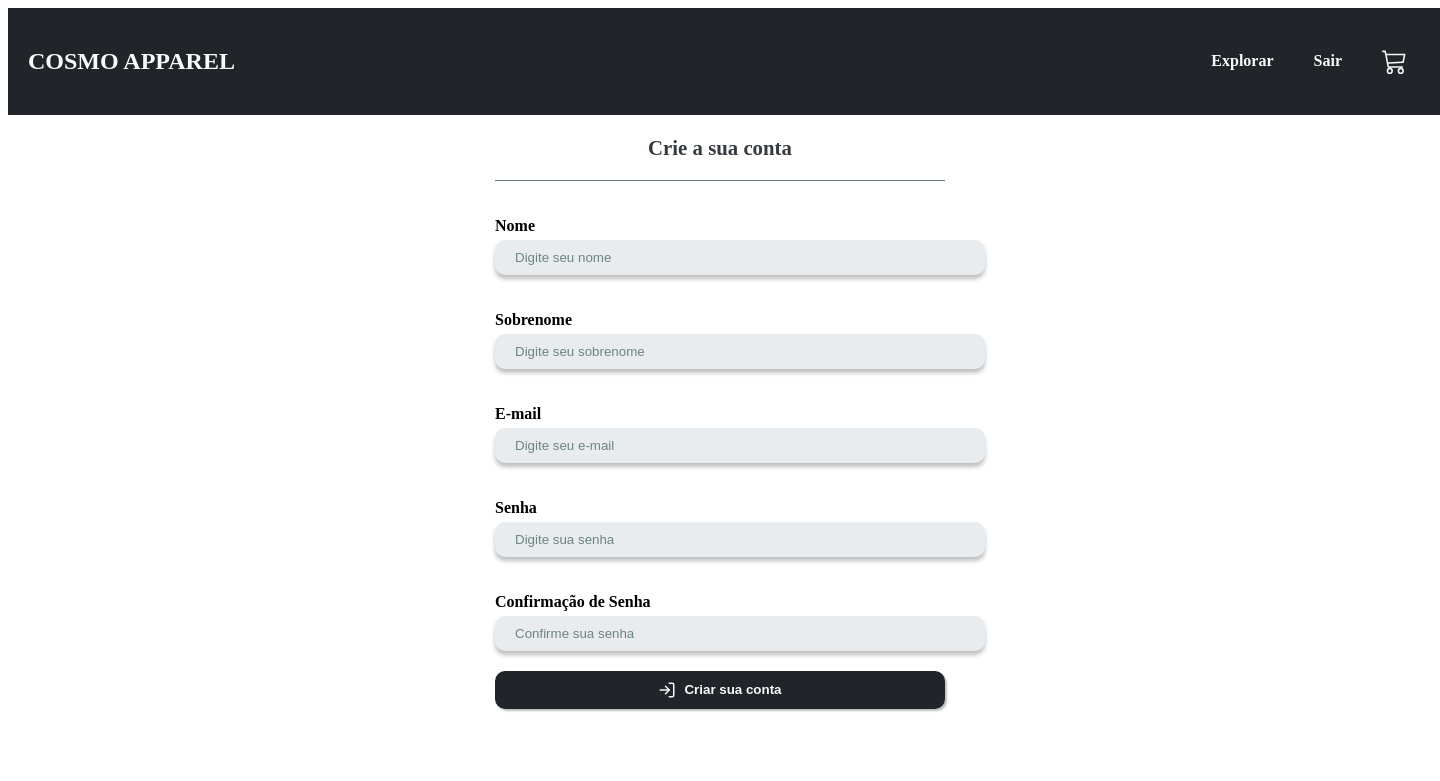
Scenario: Sign Up › should show error when trying to submit without filling all required fields
Click the button "Criar sua conta".
click(720, 690)  # box [495, 671, 945, 709]
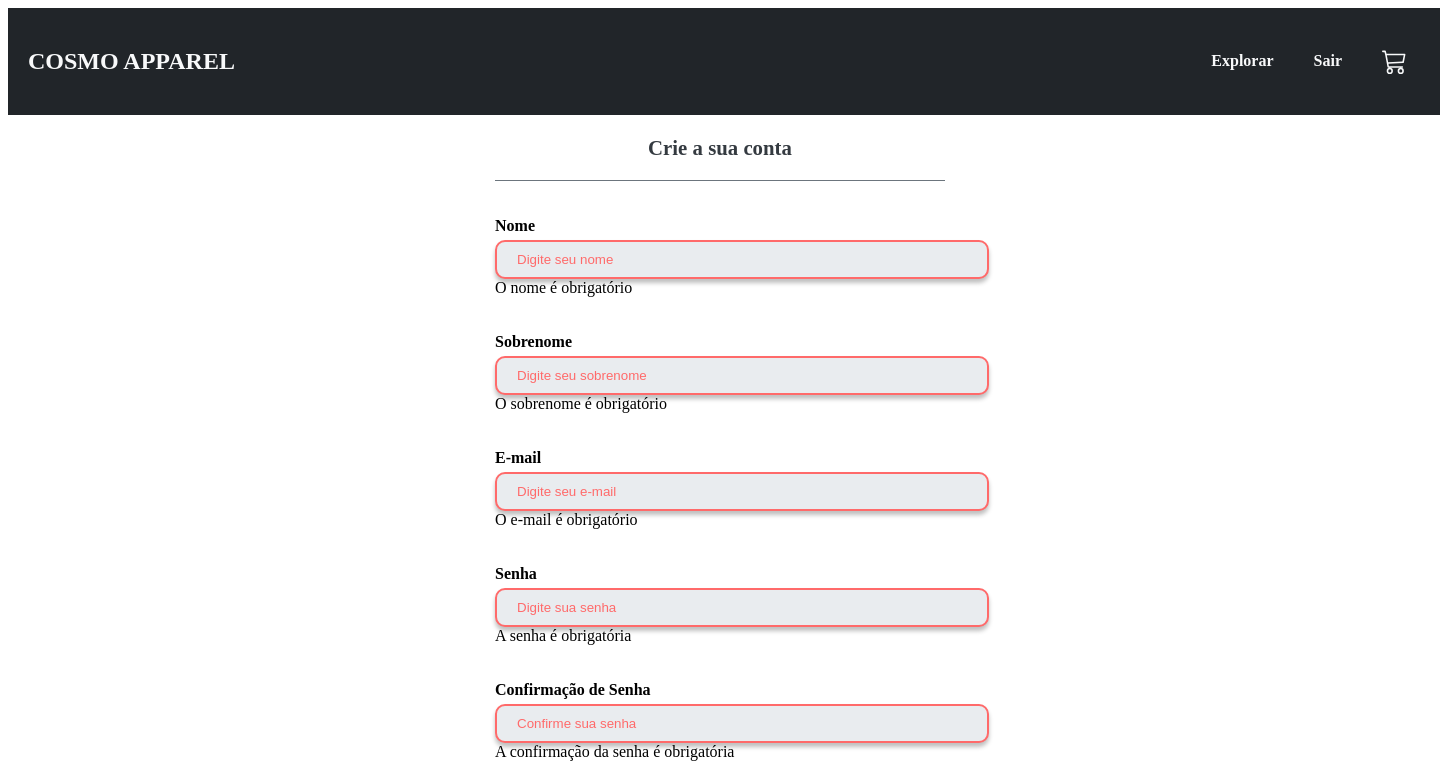
Result: the text "O nome é obrigatório" is shown at [495, 279, 632, 296]
Result: the text "O sobrenome é obrigatório" is shown at [495, 395, 667, 412]
Result: the text "O e-mail é obrigatório" is shown at [495, 511, 638, 528]
